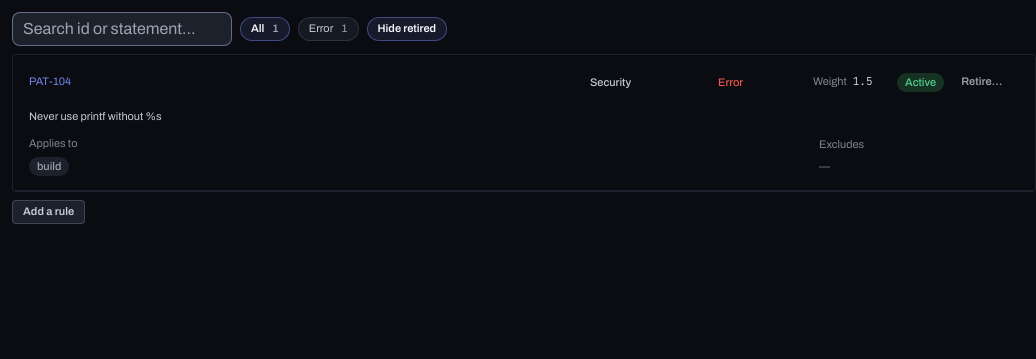
Test case: SteeringGrid — the draft row › an id colliding with a loaded rule warns "will UPDATE" (the wire is an upsert) without blocking
The image size is (1036, 359).
Click the button with test id "steering-grid-add": [49, 212] box x1=12 y1=200 x2=85 y2=224
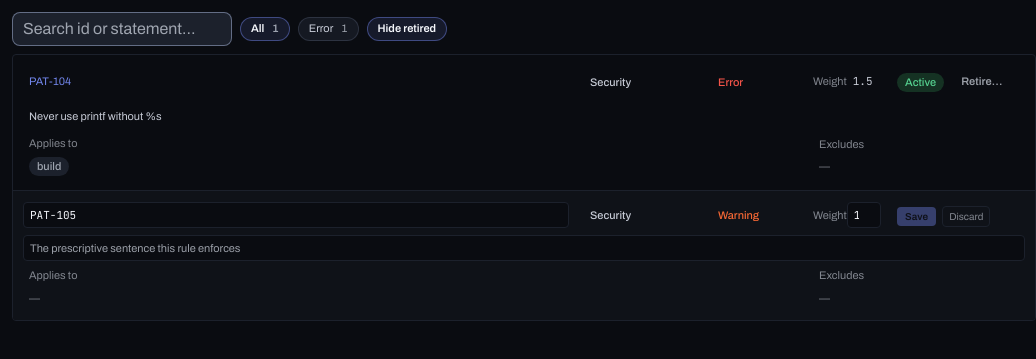
Replace the text in the field with test id "steering-draft-id" with "PAT-104": [296, 215] box x1=23 y1=202 x2=569 y2=228
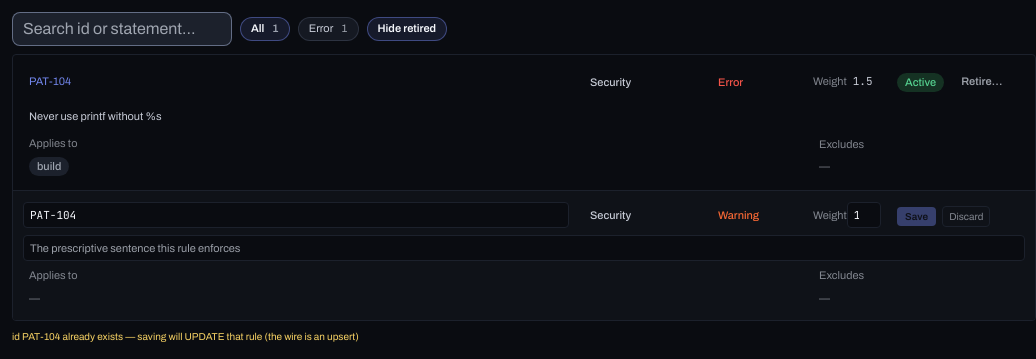
In the field with test id "steering-draft-statement": [524, 248] box x1=23 y1=235 x2=1025 y2=261, type "x"
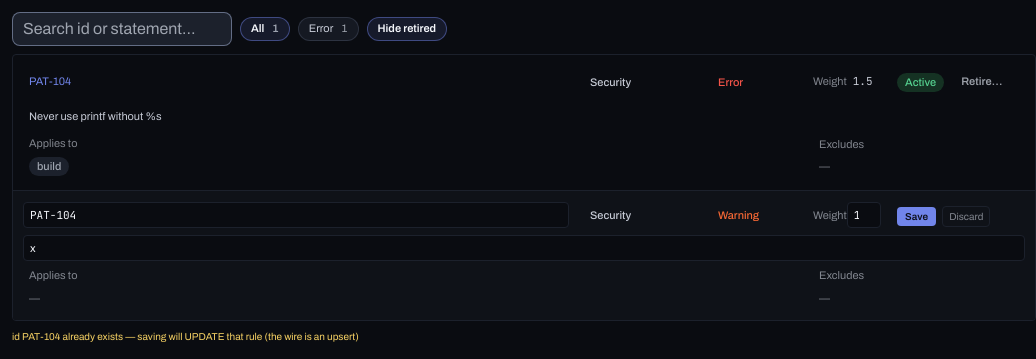
Expected: the text with test id "steering-draft-issue" shows "already exists — saving will UPDATE", x1=12 y1=331 x2=359 y2=342
Expected: the button with test id "steering-draft-save" is enabled, x1=897 y1=207 x2=936 y2=226
